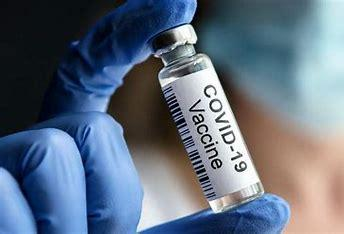Syringe: (143, 19, 269, 218)
